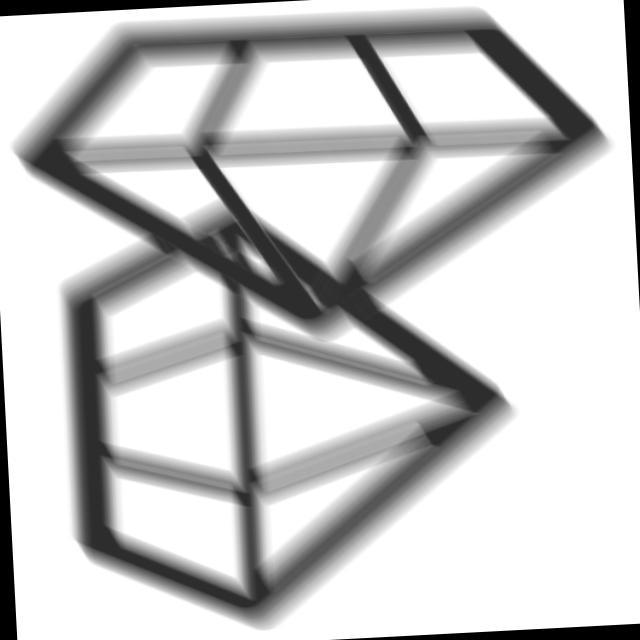diamond: (1, 1, 632, 371), (48, 188, 540, 640)
